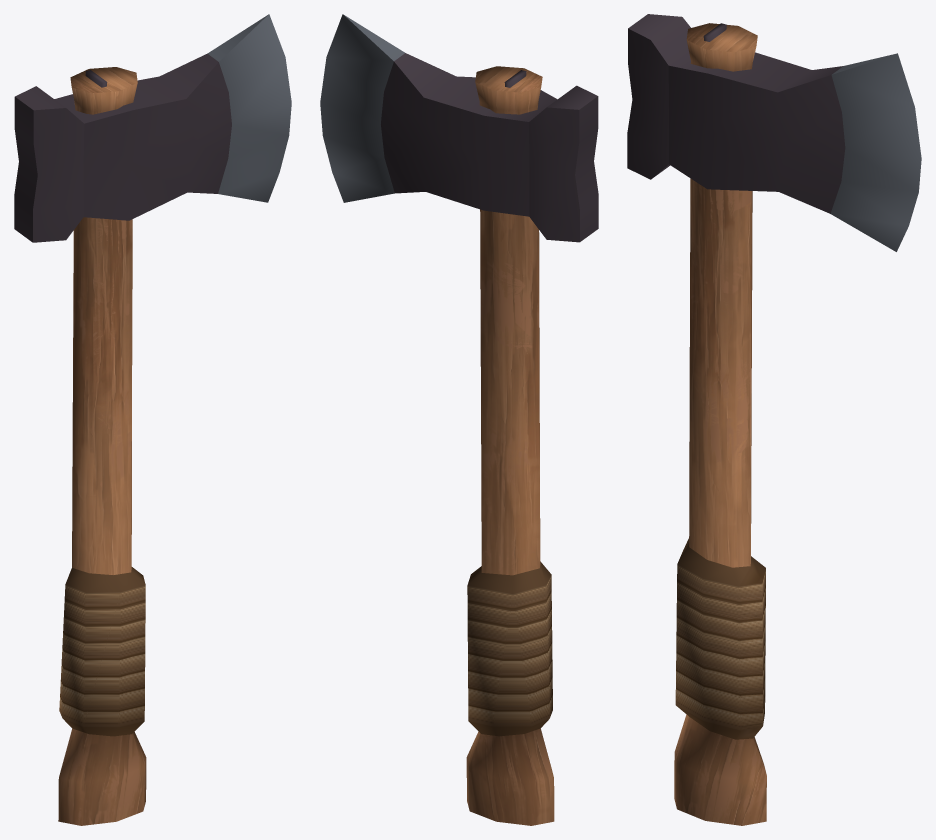
The model's file is Axe_1.fbx.
3 renders of one model, left to right at view 1: azimuth 30°, elevation 25°; view 2: azimuth 150°, elevation 25°; view 3: azimuth 330°, elevation 25°, orthographic. The views are drawn at different scales.
Parts seen in each view (by area): view 1: Axe_1; view 2: Axe_1; view 3: Axe_1.
Boxes of the visible parts, x1,y1,x2,y2 form: Axe_1: [14, 14, 291, 825]; Axe_1: [320, 14, 598, 825]; Axe_1: [627, 14, 921, 825].
Bounding box in the file's own units: 0.3672 × 0.9881 × 0.0954.
